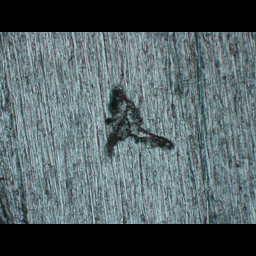d: (101, 84, 177, 161)
